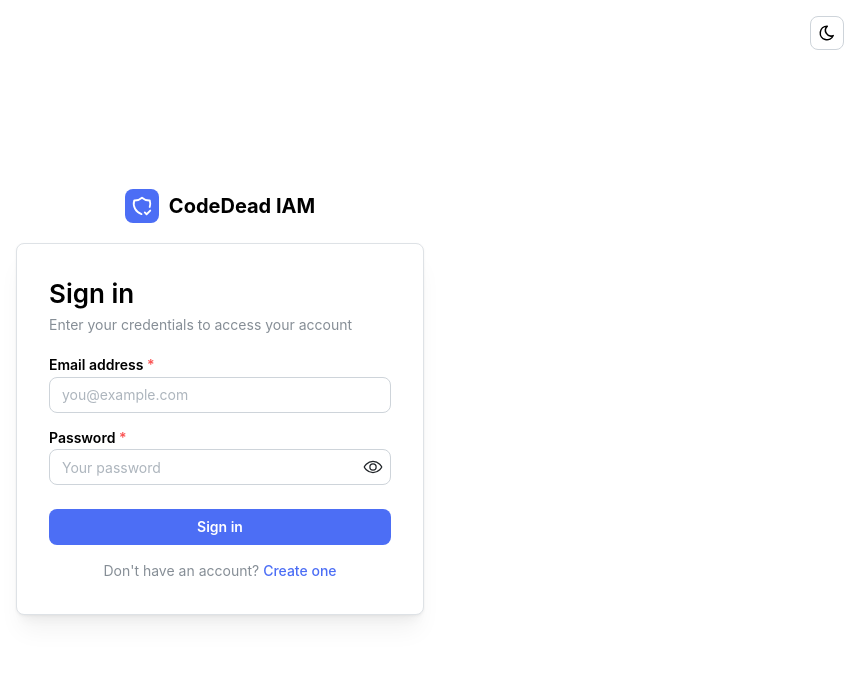
Test: Authentication, Registration, Logout & Route Protection › displays API error message on failed login
Type "bad@example.com" into the field labelled "Email address *" at (220, 394), box [49,376,391,412]
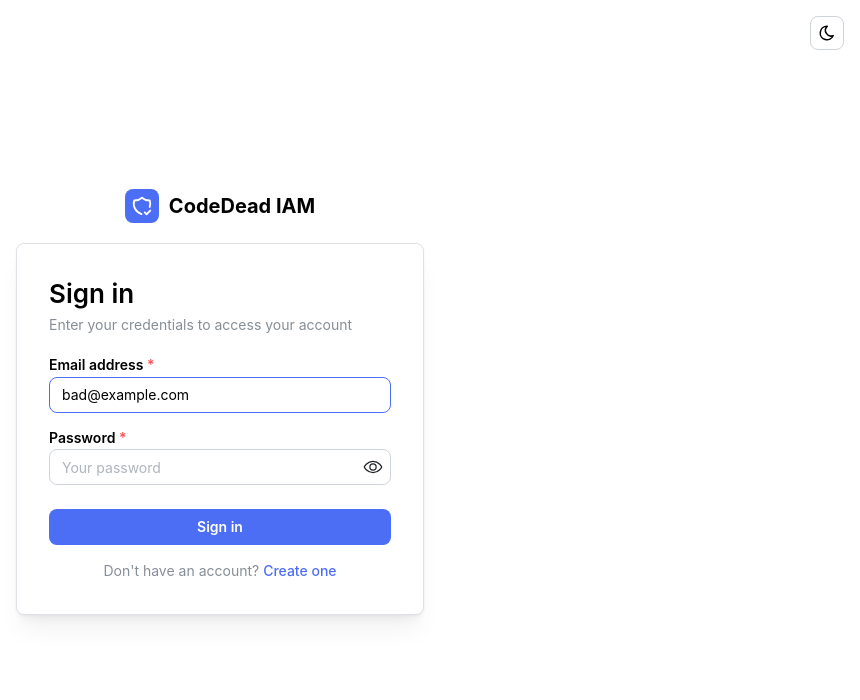
Type "Wrong123!" into the password field labelled "Password *" at (220, 467), box [50,450,390,484]
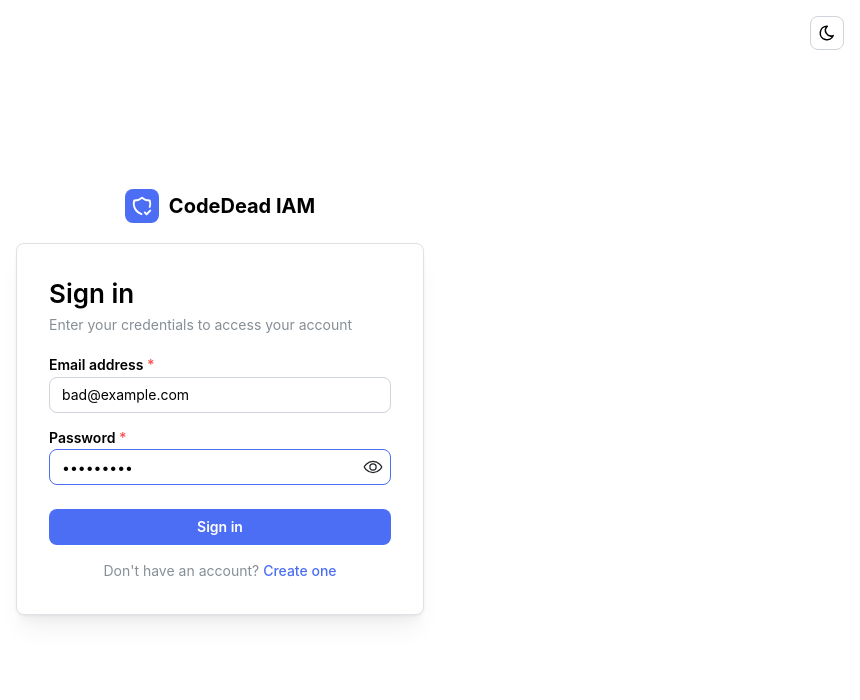
Click the button "Sign in" at (220, 527), box [49,509,391,545]
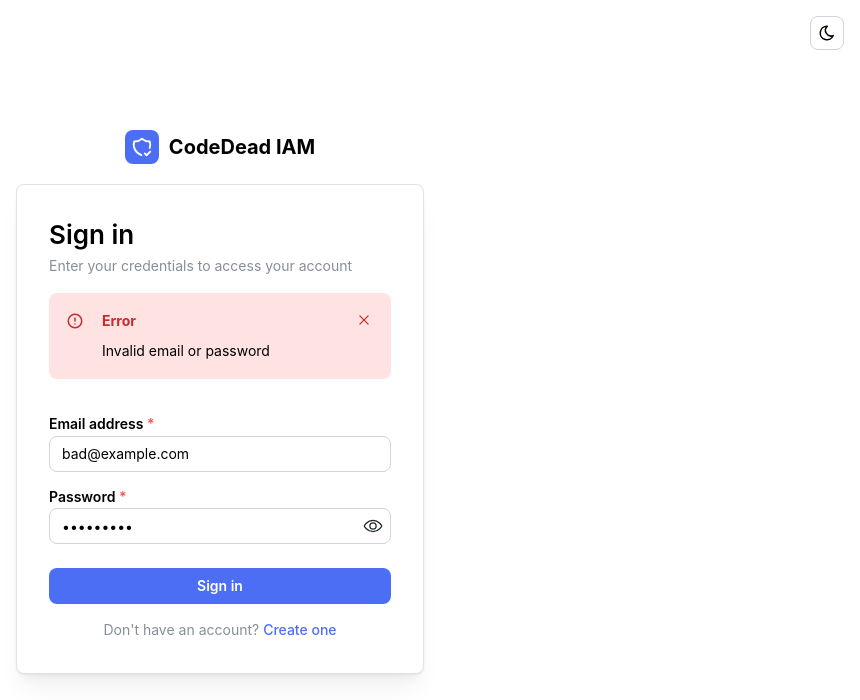
Check: the text "Invalid email or password" is shown, box [102,342,270,359]
